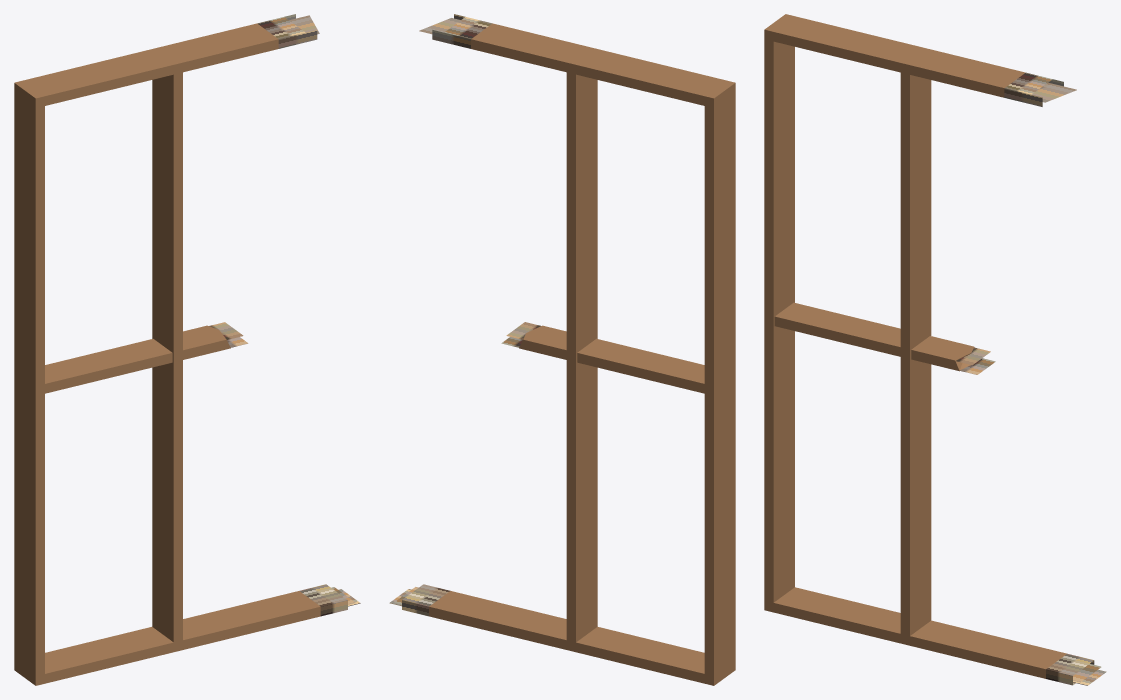
Rendered from DBK_WoodFrame_Side_D.fbx.
3 renders of one model, left to right at view 1: azimuth 30°, elevation 25°; view 2: azimuth 150°, elevation 25°; view 3: azimuth 330°, elevation 25°, orthographic.
Visible parts, largest first — view 1: DBK_WoodFrame_Side_D; view 2: DBK_WoodFrame_Side_D; view 3: DBK_WoodFrame_Side_D.
Boxes of the visible parts, box(x1,y1,x2,y2) form: DBK_WoodFrame_Side_D: box(14, 14, 360, 685); DBK_WoodFrame_Side_D: box(389, 14, 735, 685); DBK_WoodFrame_Side_D: box(764, 14, 1106, 685).
Size of the model in its own units: 174 by 300 by 20.
